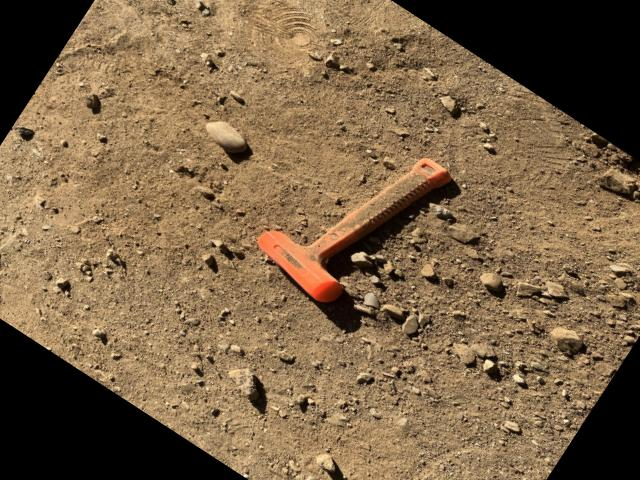hammer: (247, 101, 456, 326)
